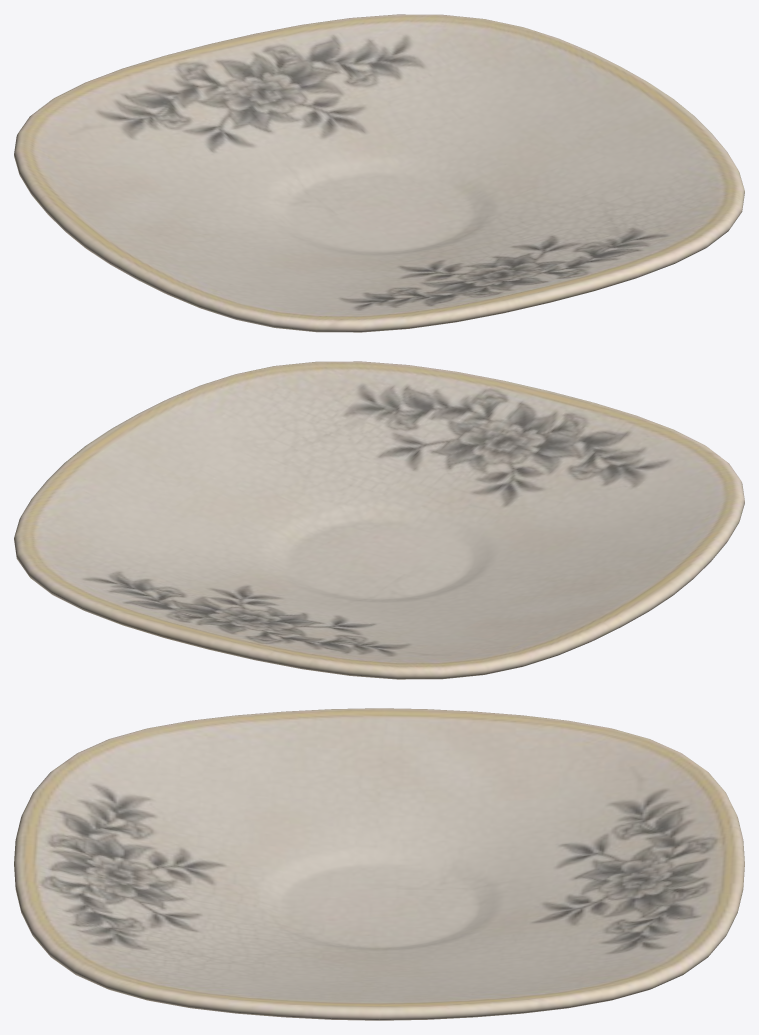
Rendered from ph-thrift-square-plate.glb.
3 renders of one model, top to bottom at view 1: azimuth 30°, elevation 25°; view 2: azimuth 150°, elevation 25°; view 3: azimuth 270°, elevation 25°, orthographic. The views are drawn at different scales.
Parts seen in each view (by area): view 1: tea_set_01_plate_large_square_01; view 2: tea_set_01_plate_large_square_01; view 3: tea_set_01_plate_large_square_01.
Part boxes in pixels (left/top/right/bottom): tea_set_01_plate_large_square_01: left=14, top=14, right=744, bottom=332; tea_set_01_plate_large_square_01: left=14, top=361, right=744, bottom=679; tea_set_01_plate_large_square_01: left=14, top=708, right=744, bottom=1020.
Bounding box in the file's own units: 0.2652 × 0.025 × 0.2679.
1 material, 1 textured.
